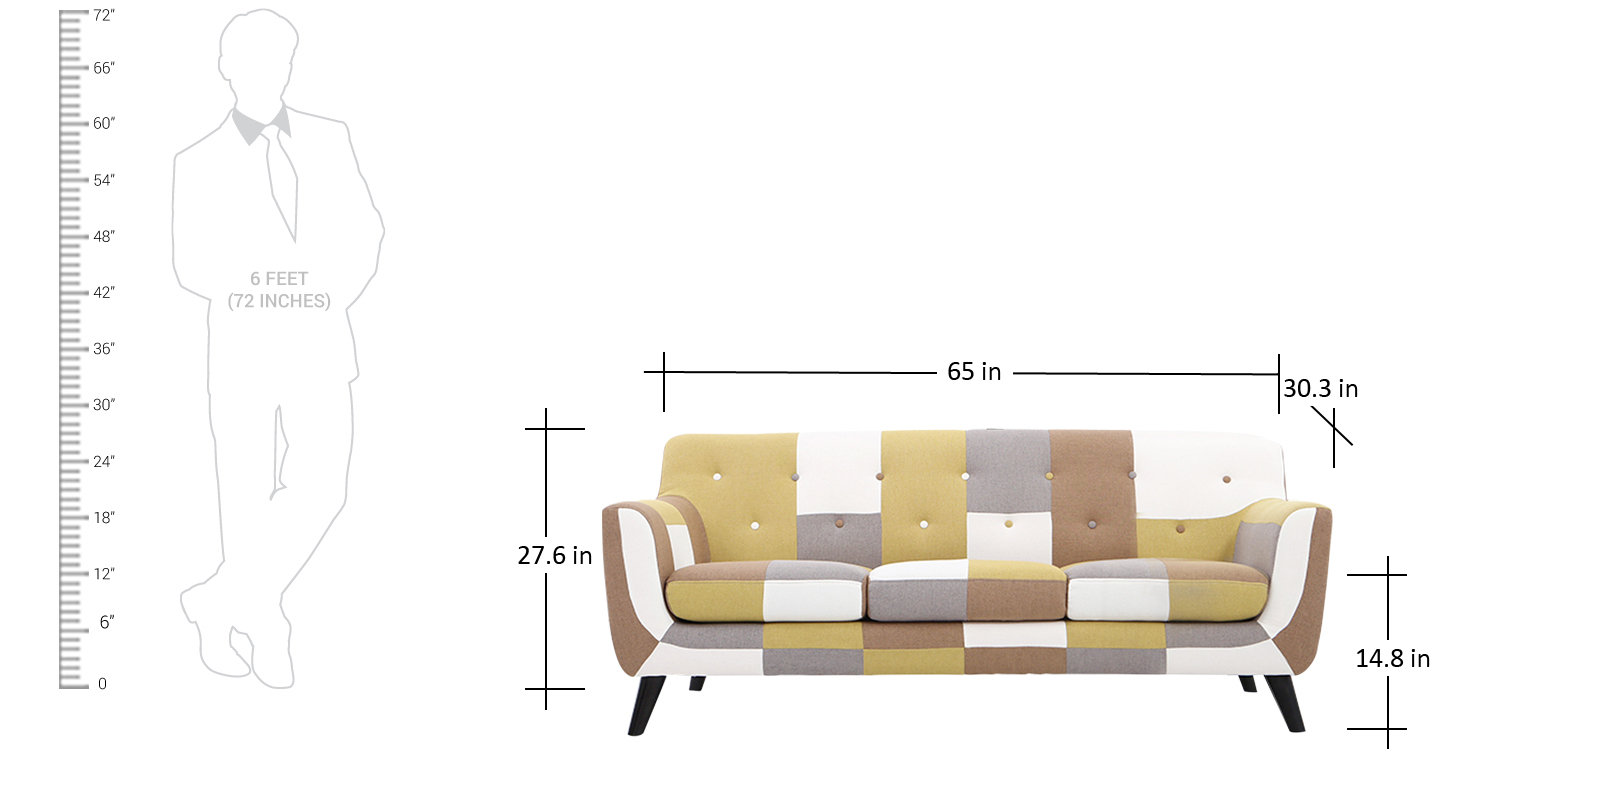Frida Three Seater Sofa in Yellow Multi Colour by CasaCraft: (599, 427, 1352, 753)
